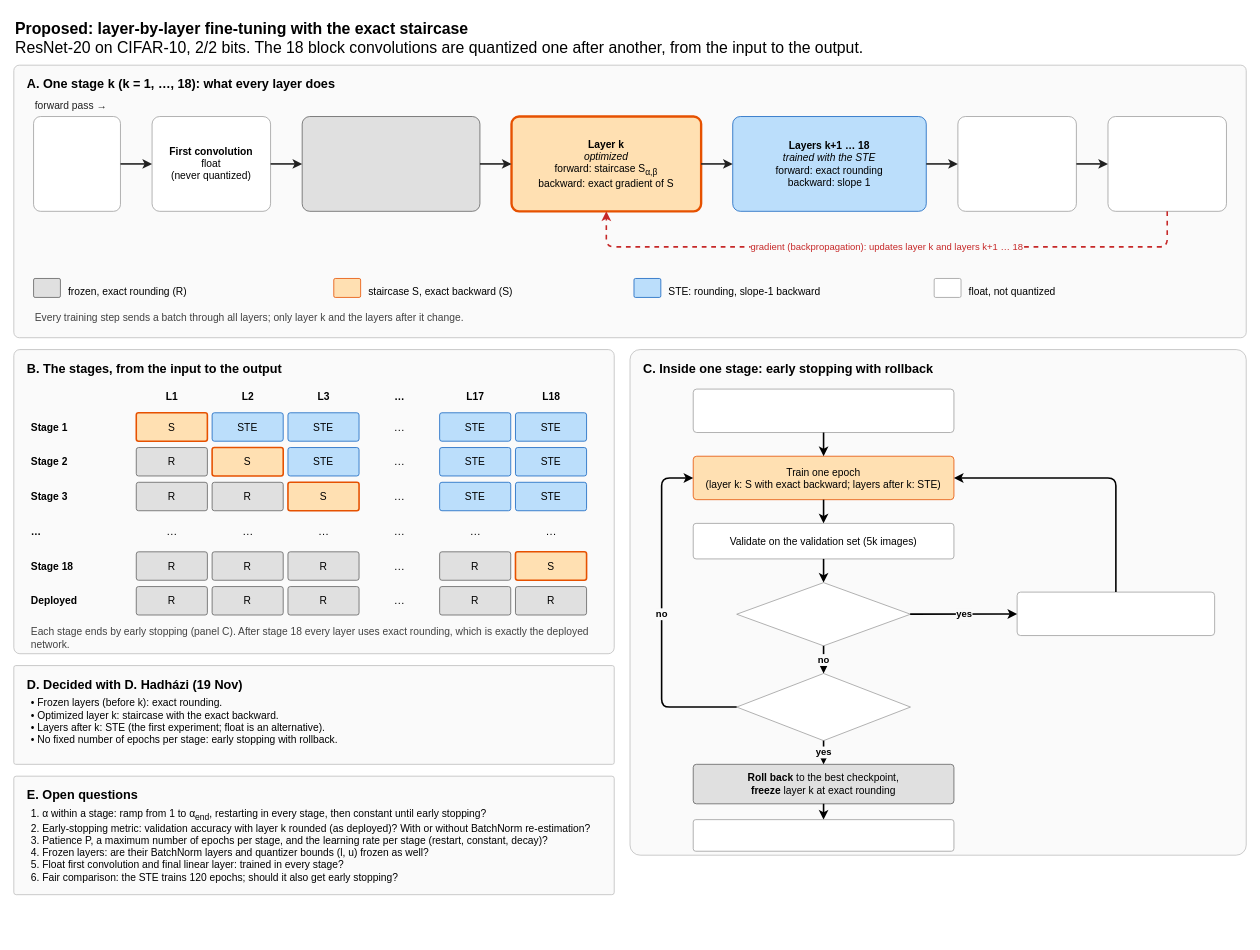
This 1260x950 diagram has some shape labels left out. Here are the shapes that lost their labels. From the top down, the box of each, then its label:
(33, 116, 120, 211): Input training images
(301, 116, 480, 211): Layers 1 … k−1 frozen forward: exact rounding no update
(957, 116, 1076, 211): Final linear layer float (never quantized)
(1107, 116, 1226, 211): Loss cross-entropy
(692, 388, 954, 433): Start stage k from the best weights of stage k−1 (stage 1: the float model)
(736, 582, 910, 646): Best so far?
(1016, 591, 1215, 636): Save a checkpoint (the best weights so far)
(736, 673, 910, 741): No improvement for P epochs?
(692, 819, 954, 851): Next stage: k = k + 1 (after stage 18: evaluate on the test set)
